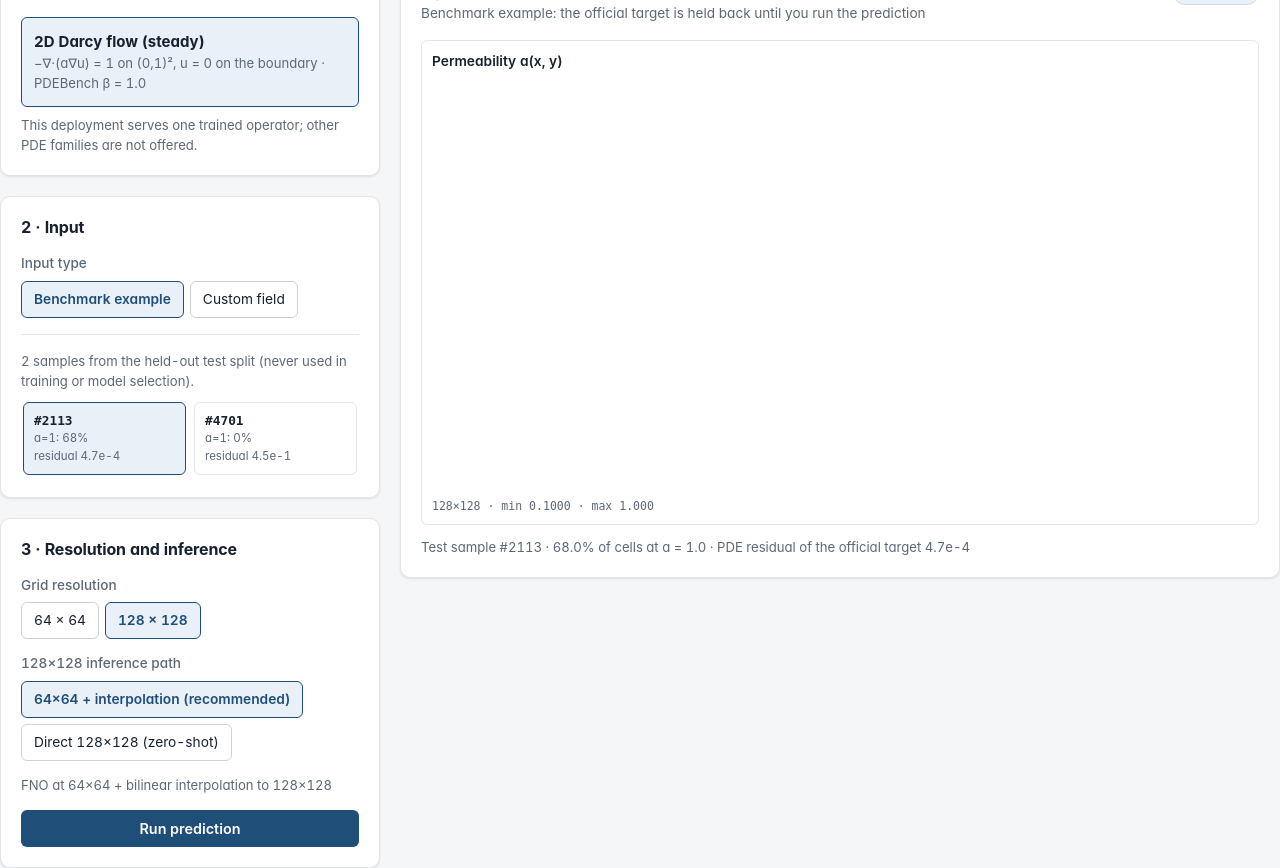
it: Solver workspace › shows the server's validation message when the API rejects a prediction
(page scrolled)
Expected: the element with test id "hm-workspace-input" is shown, top-left (421, 40), bottom-right (1259, 525)
Click the button with test id "predict-button": click(190, 828) top-left (21, 810), bottom-right (359, 846)
(page scrolled)
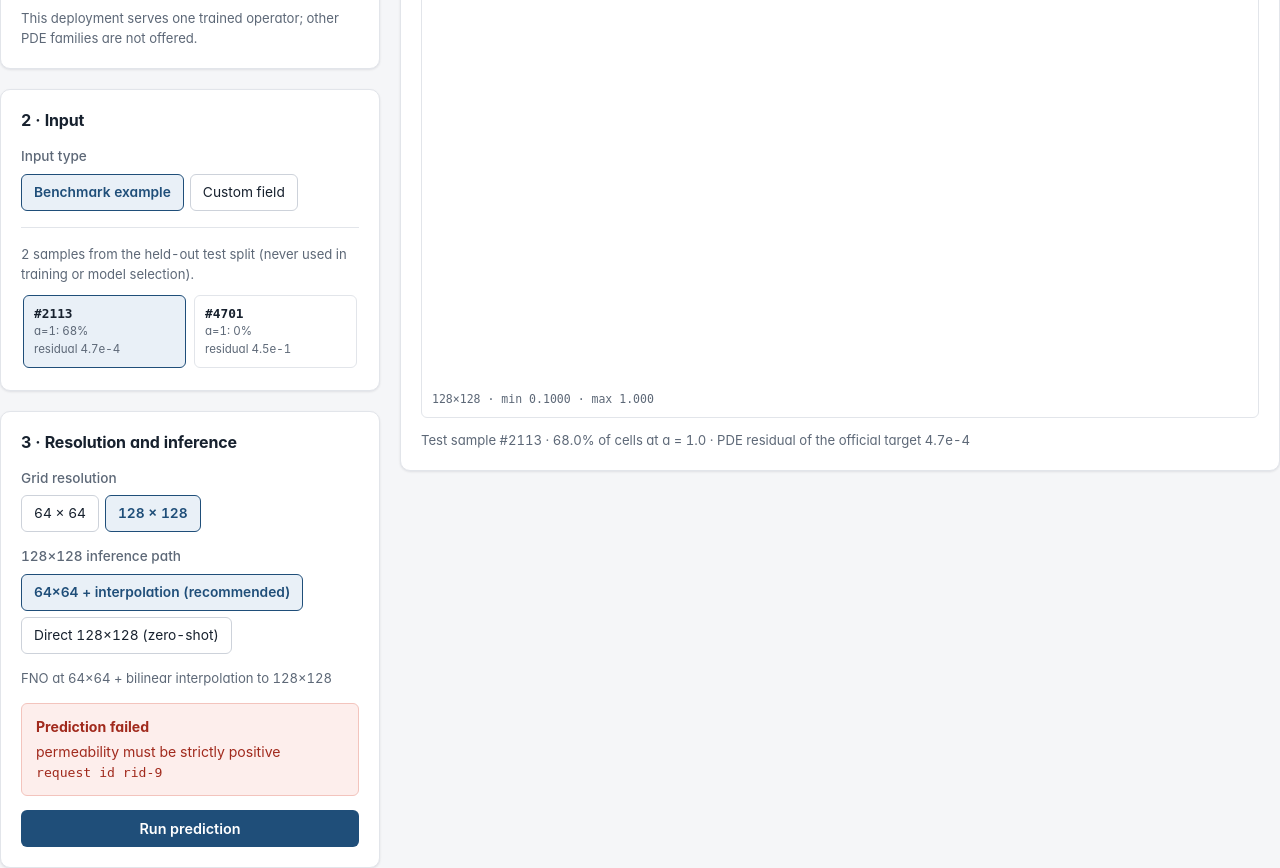
Expected: the message with test id "submit-error" shows "Prediction failed", top-left (36, 718), bottom-right (149, 734)
Expected: the message with test id "submit-error" shows "permeability must be strictly positive", top-left (36, 743), bottom-right (280, 760)
Expected: the message with test id "submit-error" shows "rid-9", top-left (123, 765), bottom-right (162, 780)
